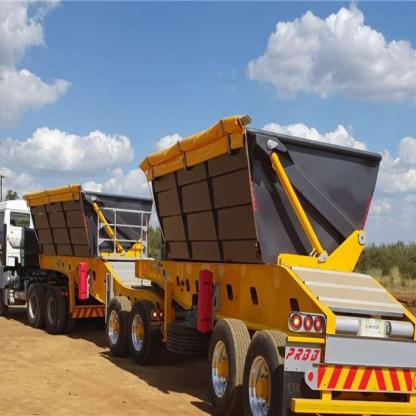dump_truck: (3, 126, 416, 405)
